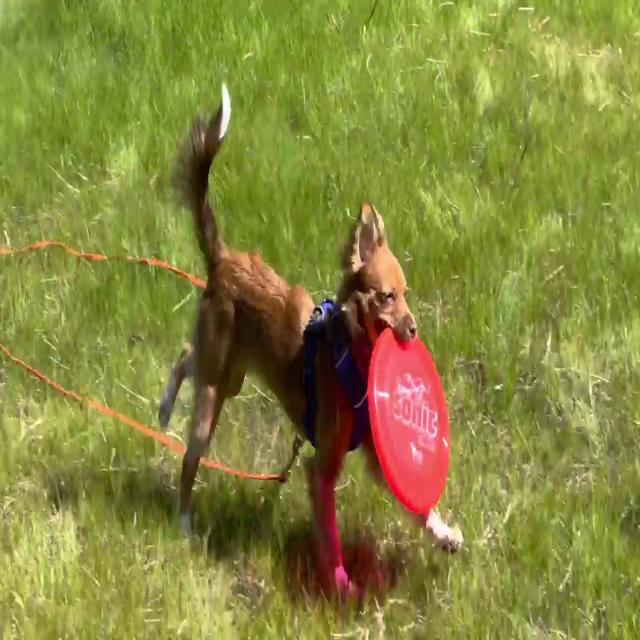Dog: (158, 82, 464, 595)
